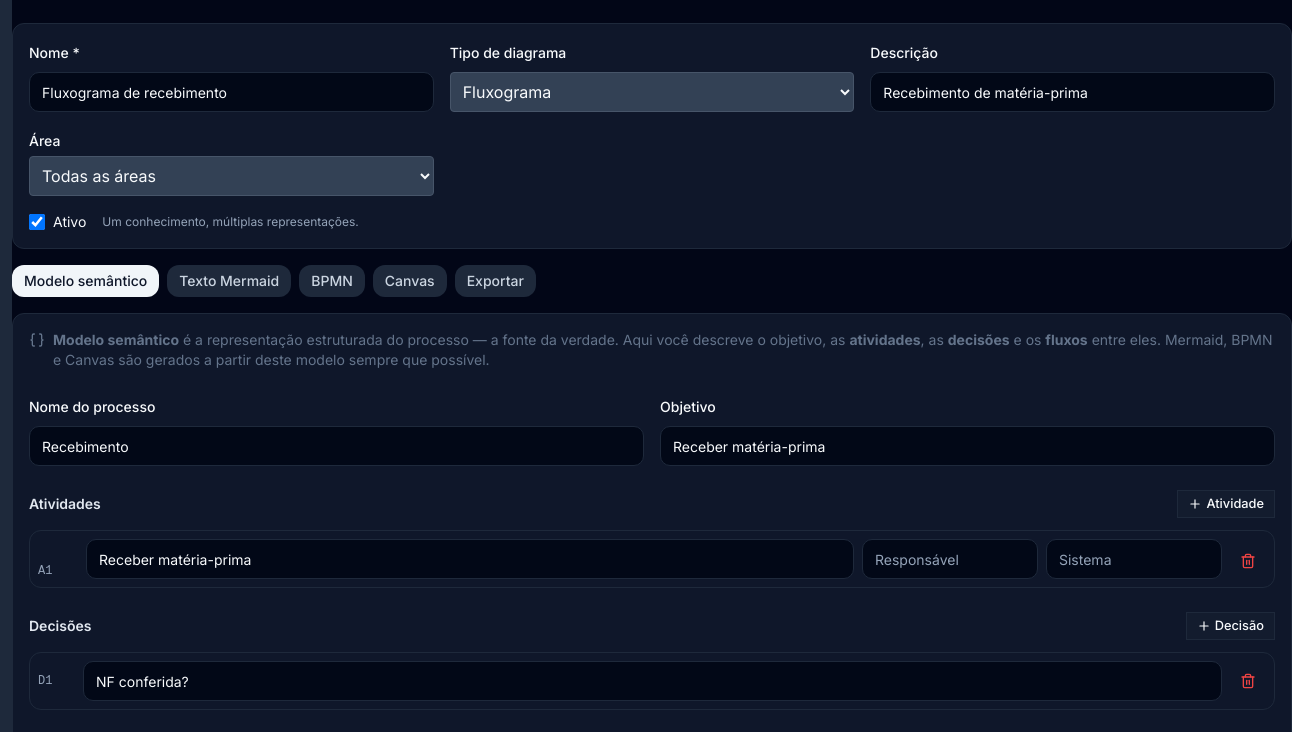
Test case: ProcessoDiagramaPage › exporta mermaid, markdown e JSON do modelo
Expected: the field named "Nome da atividade A1" is shown, [86,539,854,579]
Click the button "Exportar" at (495, 281), box [455,265,536,297]
(page scrolled)
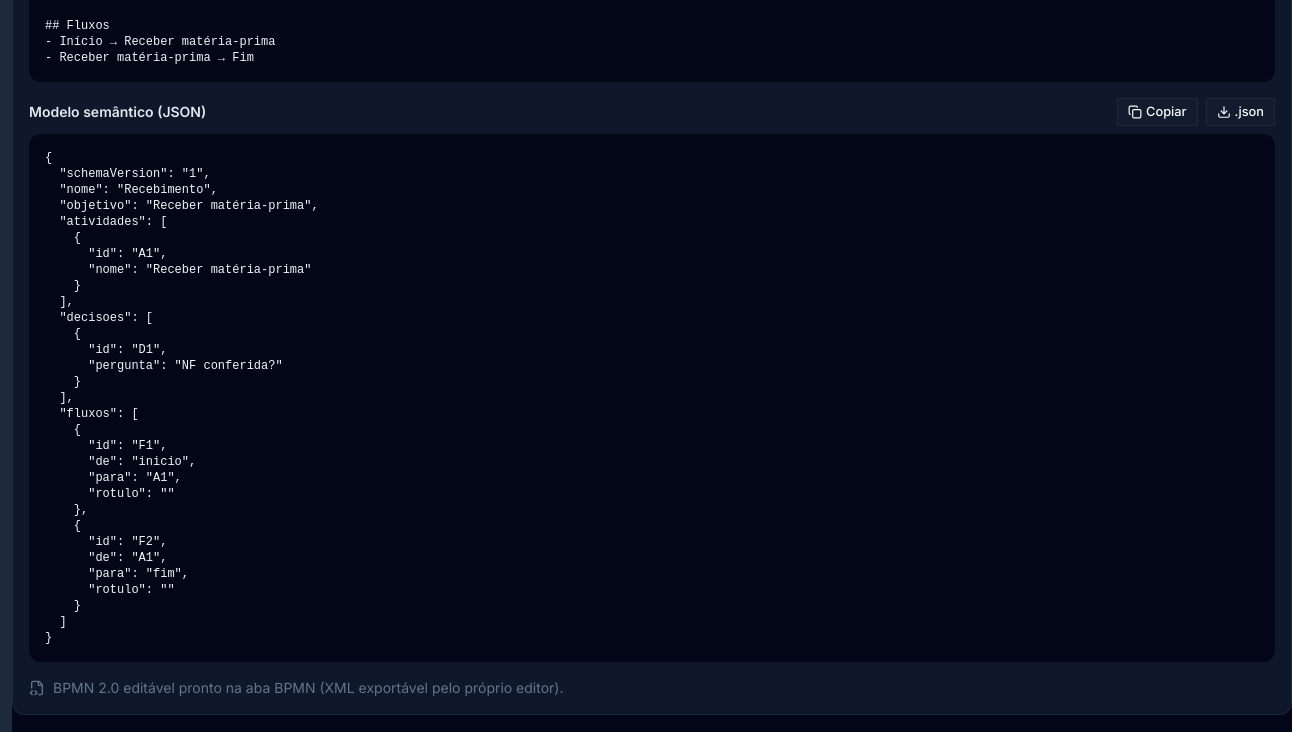
Expected: the text with test id "export-json" shows "\"atividades\"", [45,151,319,645]
